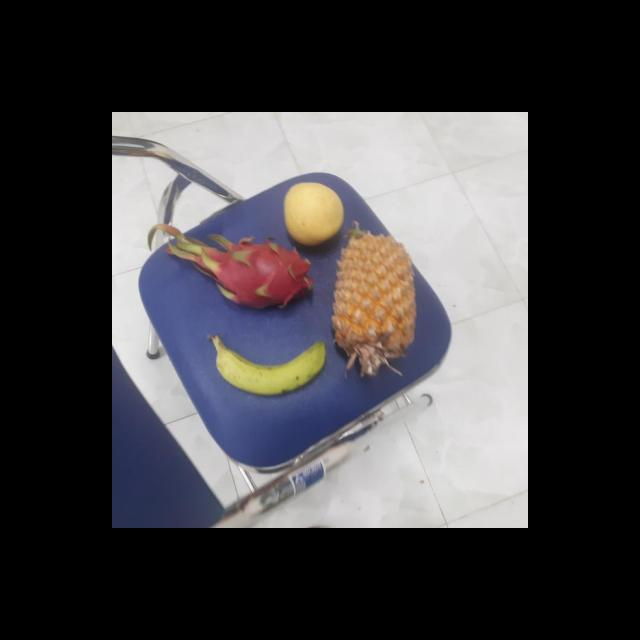banana: (208, 336, 325, 396)
pear: (280, 182, 346, 246)
pineapple: (329, 230, 418, 318)
pitaya: (200, 237, 312, 310)
